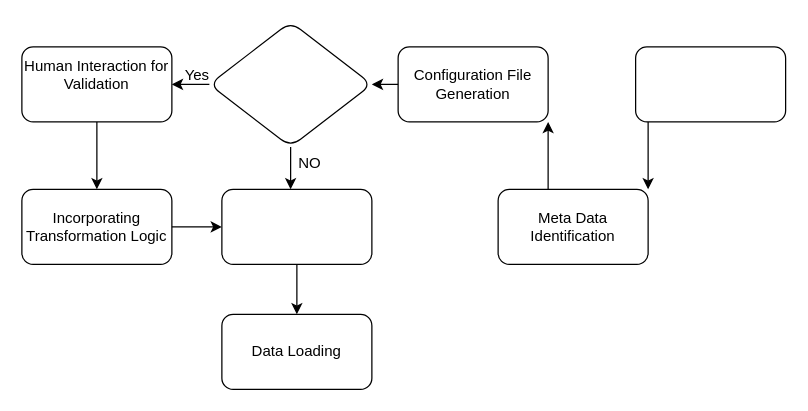
This 808x411 diagram has some shape labels left out. The shapes that lost their labels are listed below. From the top down, each one's centre as x and y in pixels, then its label:
the point at 290,84: human validation required?
the point at 710,84: File Ingestion
the point at 296,226: Data Transformation and Cleaning
